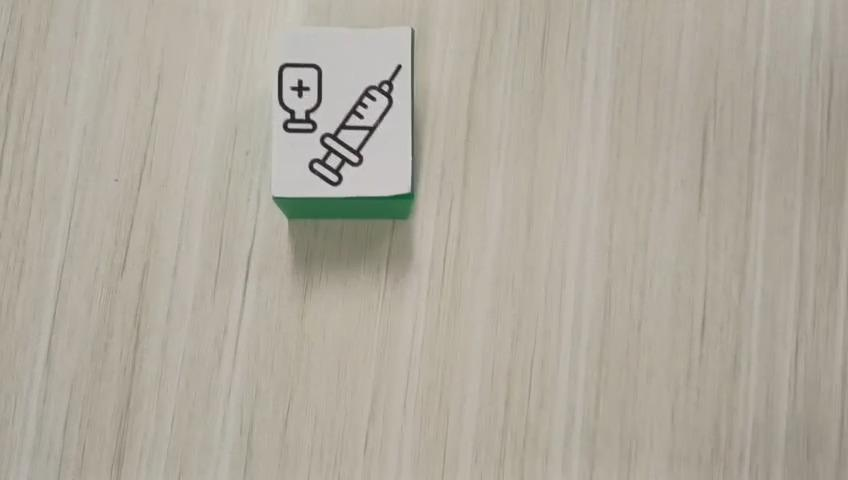antiseptic cream: (268, 24, 415, 220)
